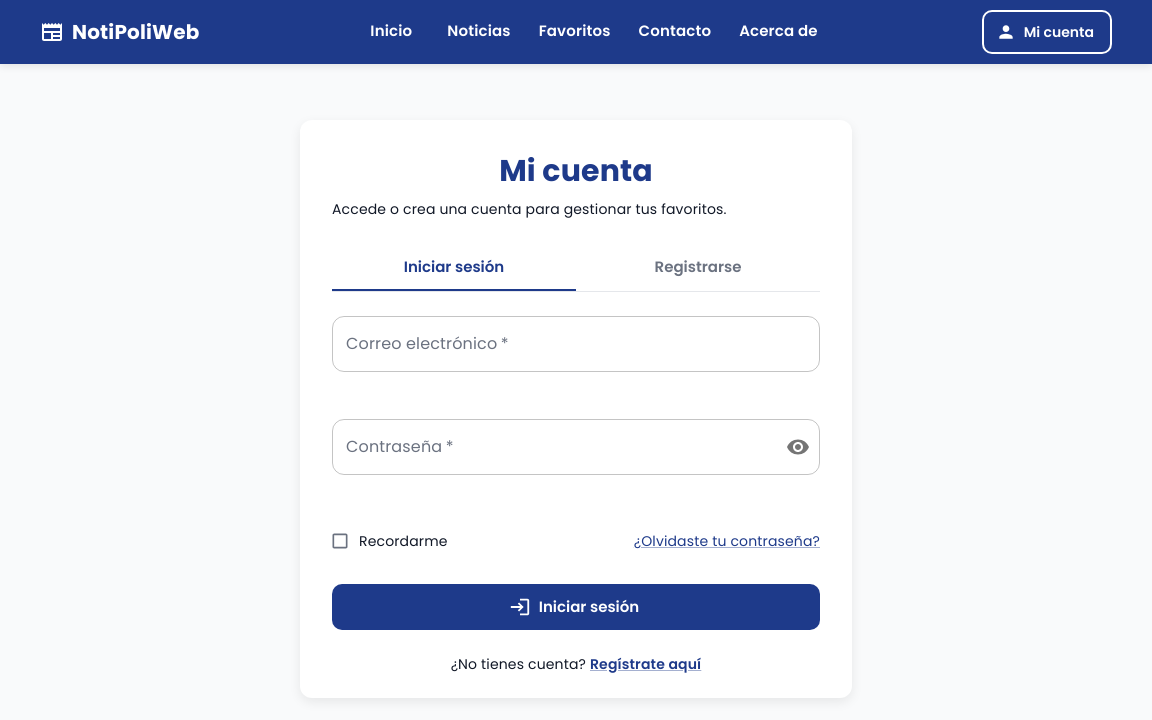
Test: Autenticación › cambia entre las pestañas de la tarjeta sin salir de la página
The width and height of the screenshot is (1152, 720).
Click the tab "Registrarse": (698,267) [576, 243, 820, 291]
(page scrolled)
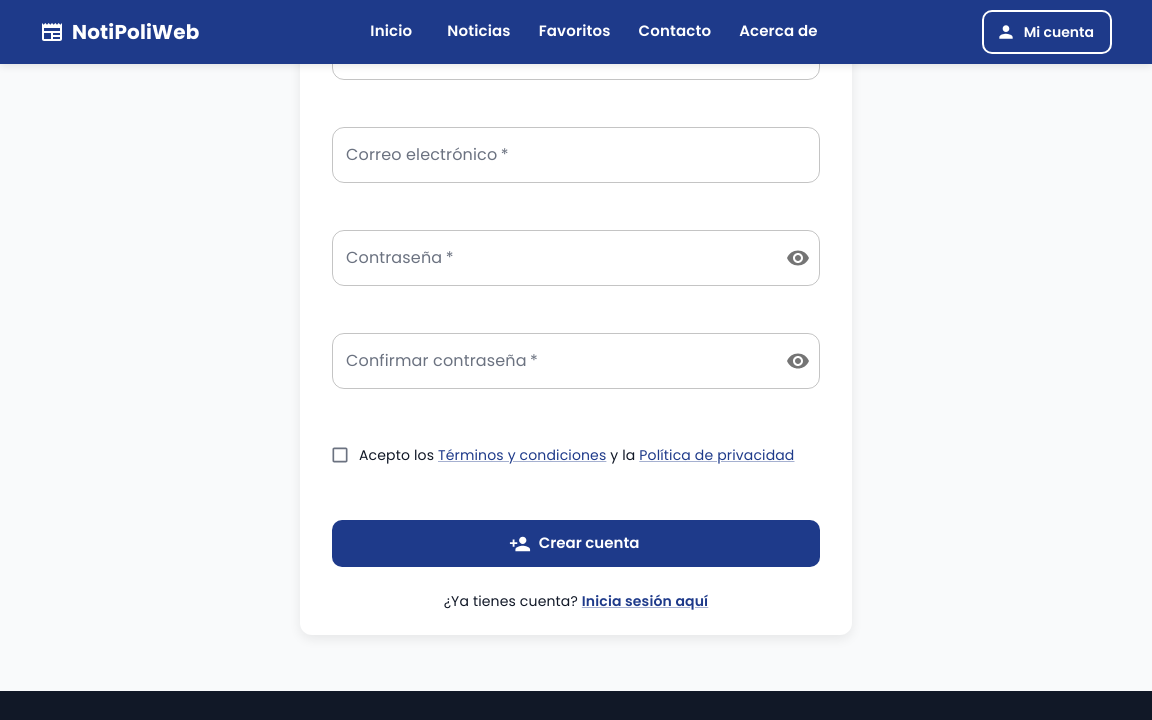
Check: the password field labelled "Confirmar contraseña *" is shown, box [332, 333, 770, 389]
Check: the field labelled "Apellido *" is shown, box [332, 24, 820, 80]
